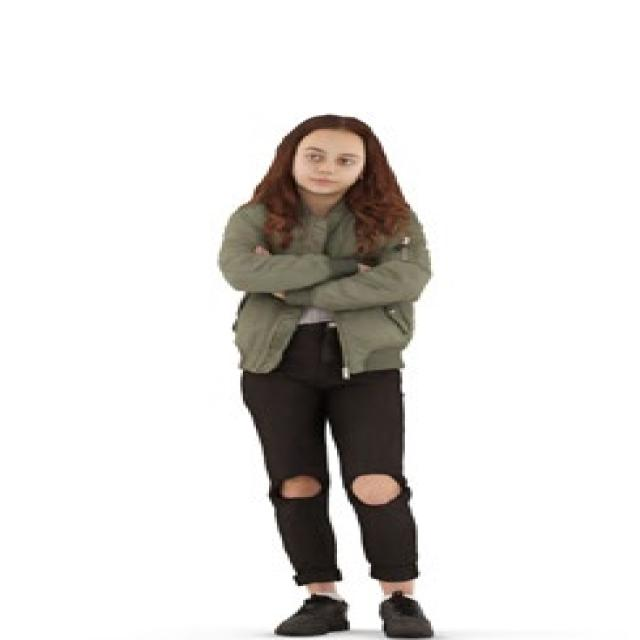standing: (215, 112, 446, 640)
